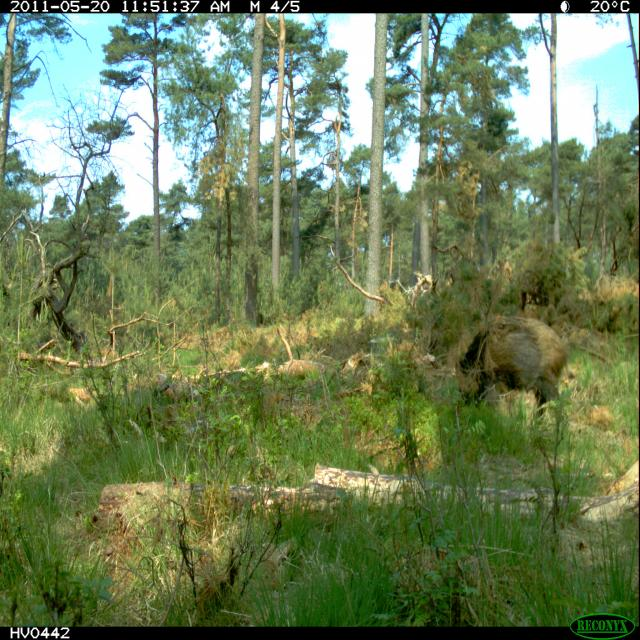boar: (436, 297, 592, 438)
